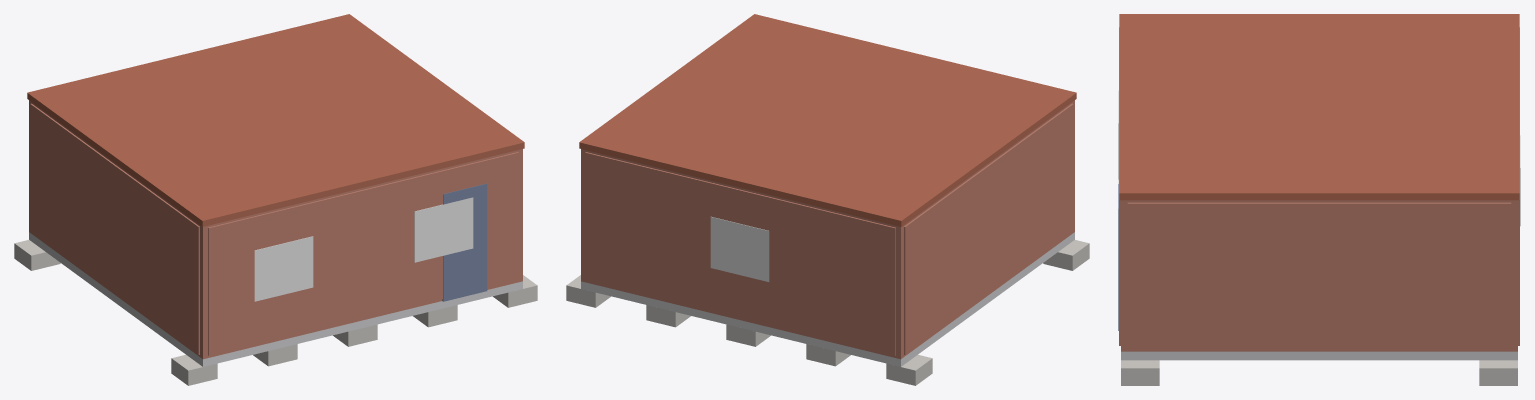
Rendered from Studio-20-Base-OxidisedRed-LOD0.glb.
3 renders of one model, left to right at view 1: azimuth 30°, elevation 25°; view 2: azimuth 150°, elevation 25°; view 3: azimuth 270°, elevation 25°, orthographic. The views are drawn at different scales.
Parts seen in each view (by area): view 1: RoofMain, ExteriorPanelsStandard, WindowsStandard, FoundationBlocks, BaseFrame, ExteriorShell, EntryDoor; view 2: ExteriorPanelsStandard, RoofMain, FoundationBlocks, BaseFrame, ExteriorShell, WindowsStandard; view 3: RoofMain, ExteriorPanelsStandard, ExteriorShell, BaseFrame, FoundationBlocks.
Boxes of the visible parts, <box> form: RoofMain: <box>27,14,524,226</box>; ExteriorPanelsStandard: <box>30,103,518,355</box>; WindowsStandard: <box>254,197,473,301</box>; FoundationBlocks: <box>14,240,537,385</box>; BaseFrame: <box>29,232,522,366</box>; ExteriorShell: <box>29,100,522,359</box>; EntryDoor: <box>442,183,487,301</box>; ExteriorPanelsStandard: <box>585,103,1073,355</box>; RoofMain: <box>579,14,1076,226</box>; FoundationBlocks: <box>566,240,1089,385</box>; BaseFrame: <box>581,232,1074,366</box>; ExteriorShell: <box>581,100,1074,359</box>; WindowsStandard: <box>710,216,769,281</box>; RoofMain: <box>1119,14,1519,200</box>; ExteriorPanelsStandard: <box>1119,27,1519,349</box>; ExteriorShell: <box>1121,200,1517,351</box>; BaseFrame: <box>1121,351,1517,360</box>; FoundationBlocks: <box>1121,360,1517,385</box>.
Bounding box in the file's own units: 7.14 × 3.17 × 6.24.
